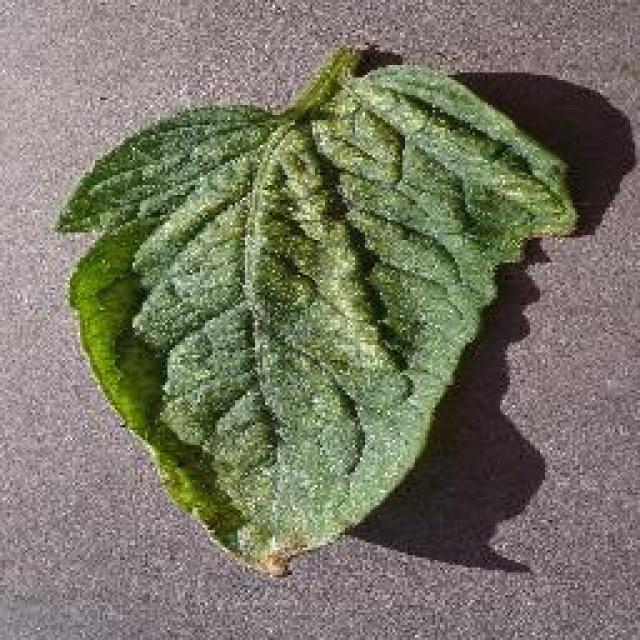Tomato___Spider_mites Two-spotted_spider_mite: (60, 48, 575, 572)
